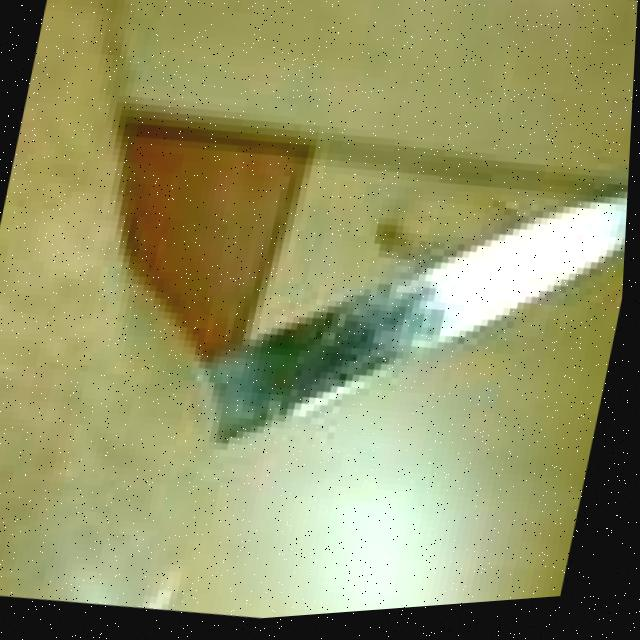knife: (152, 122, 634, 509)
